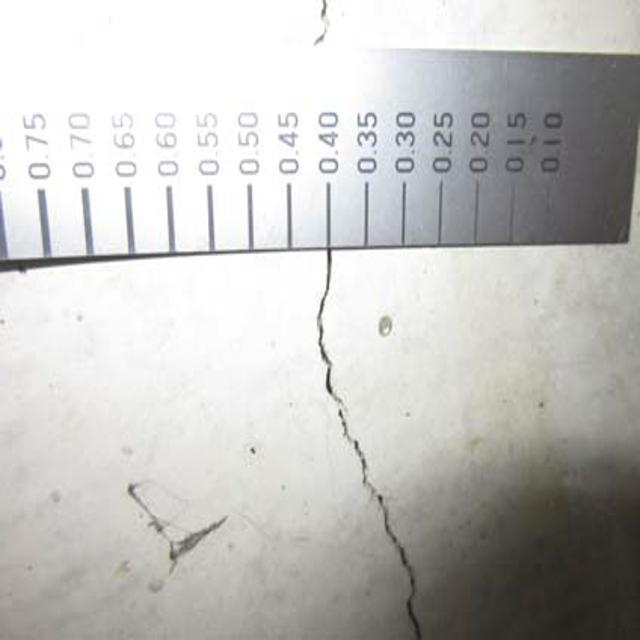crack: (301, 260, 440, 640)
